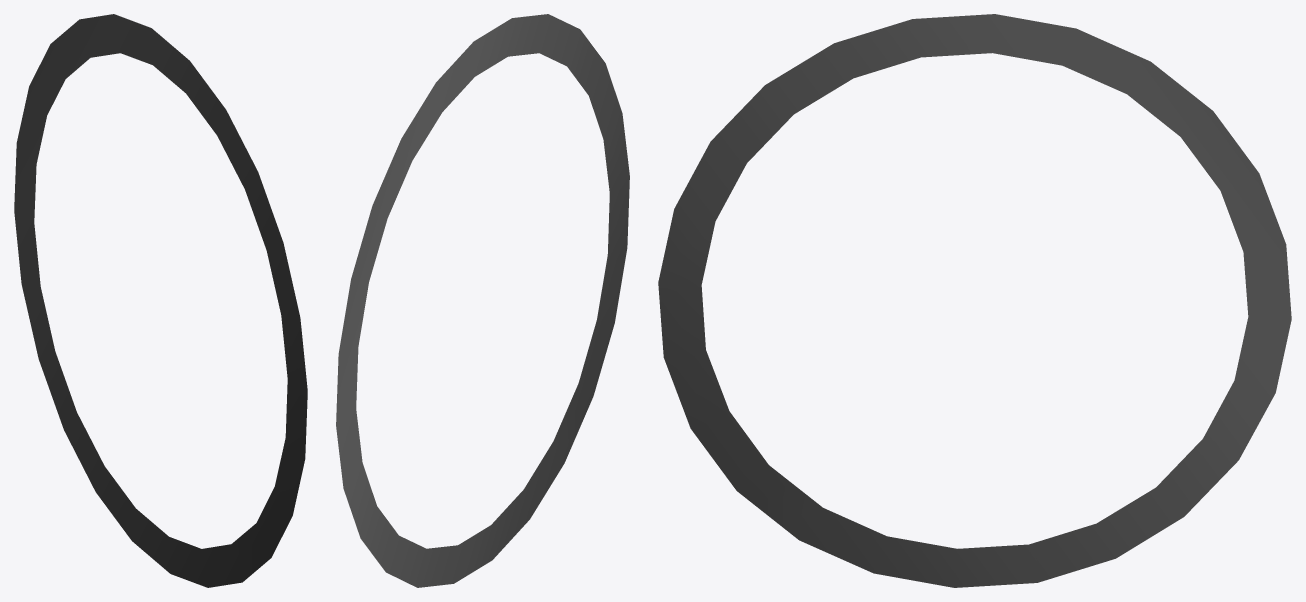
Rendered from car_066.glb.
3 views of the same model, side by side, from view 1: azimuth 30°, elevation 25°; view 2: azimuth 150°, elevation 25°; view 3: azimuth 270°, elevation 25° (orthographic). The views are drawn at different scales.
Visible parts, largest first — view 1: car.066; view 2: car.066; view 3: car.066.
Part boxes in pixels (x1,y1,x2,y2): car.066: (14,14,307,587); car.066: (336,14,629,587); car.066: (658,14,1291,587).
Size of the model in its own units: 0 by 0.3884 by 0.3885.
Materials: 1 (1 with a texture image).
